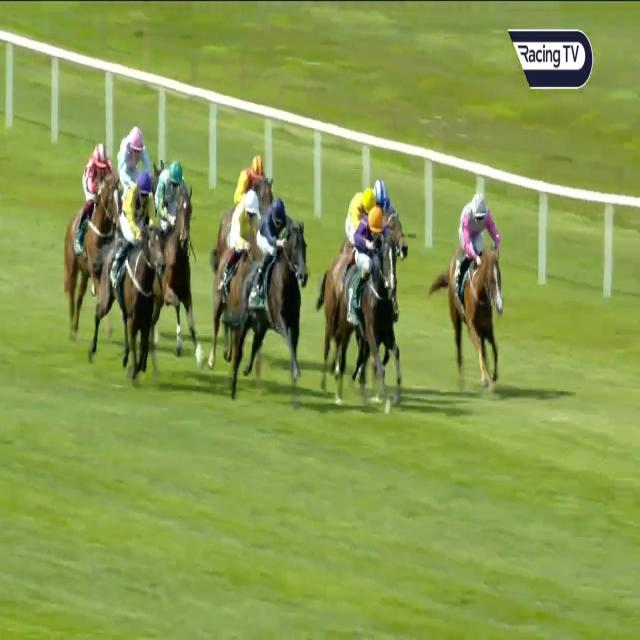horses-racing: (232, 198, 308, 400), (439, 196, 514, 384), (334, 206, 396, 412), (107, 169, 160, 386), (64, 147, 118, 294), (211, 194, 263, 344), (157, 161, 197, 344), (332, 182, 376, 288), (113, 124, 158, 197), (226, 153, 276, 198), (372, 173, 408, 224)
